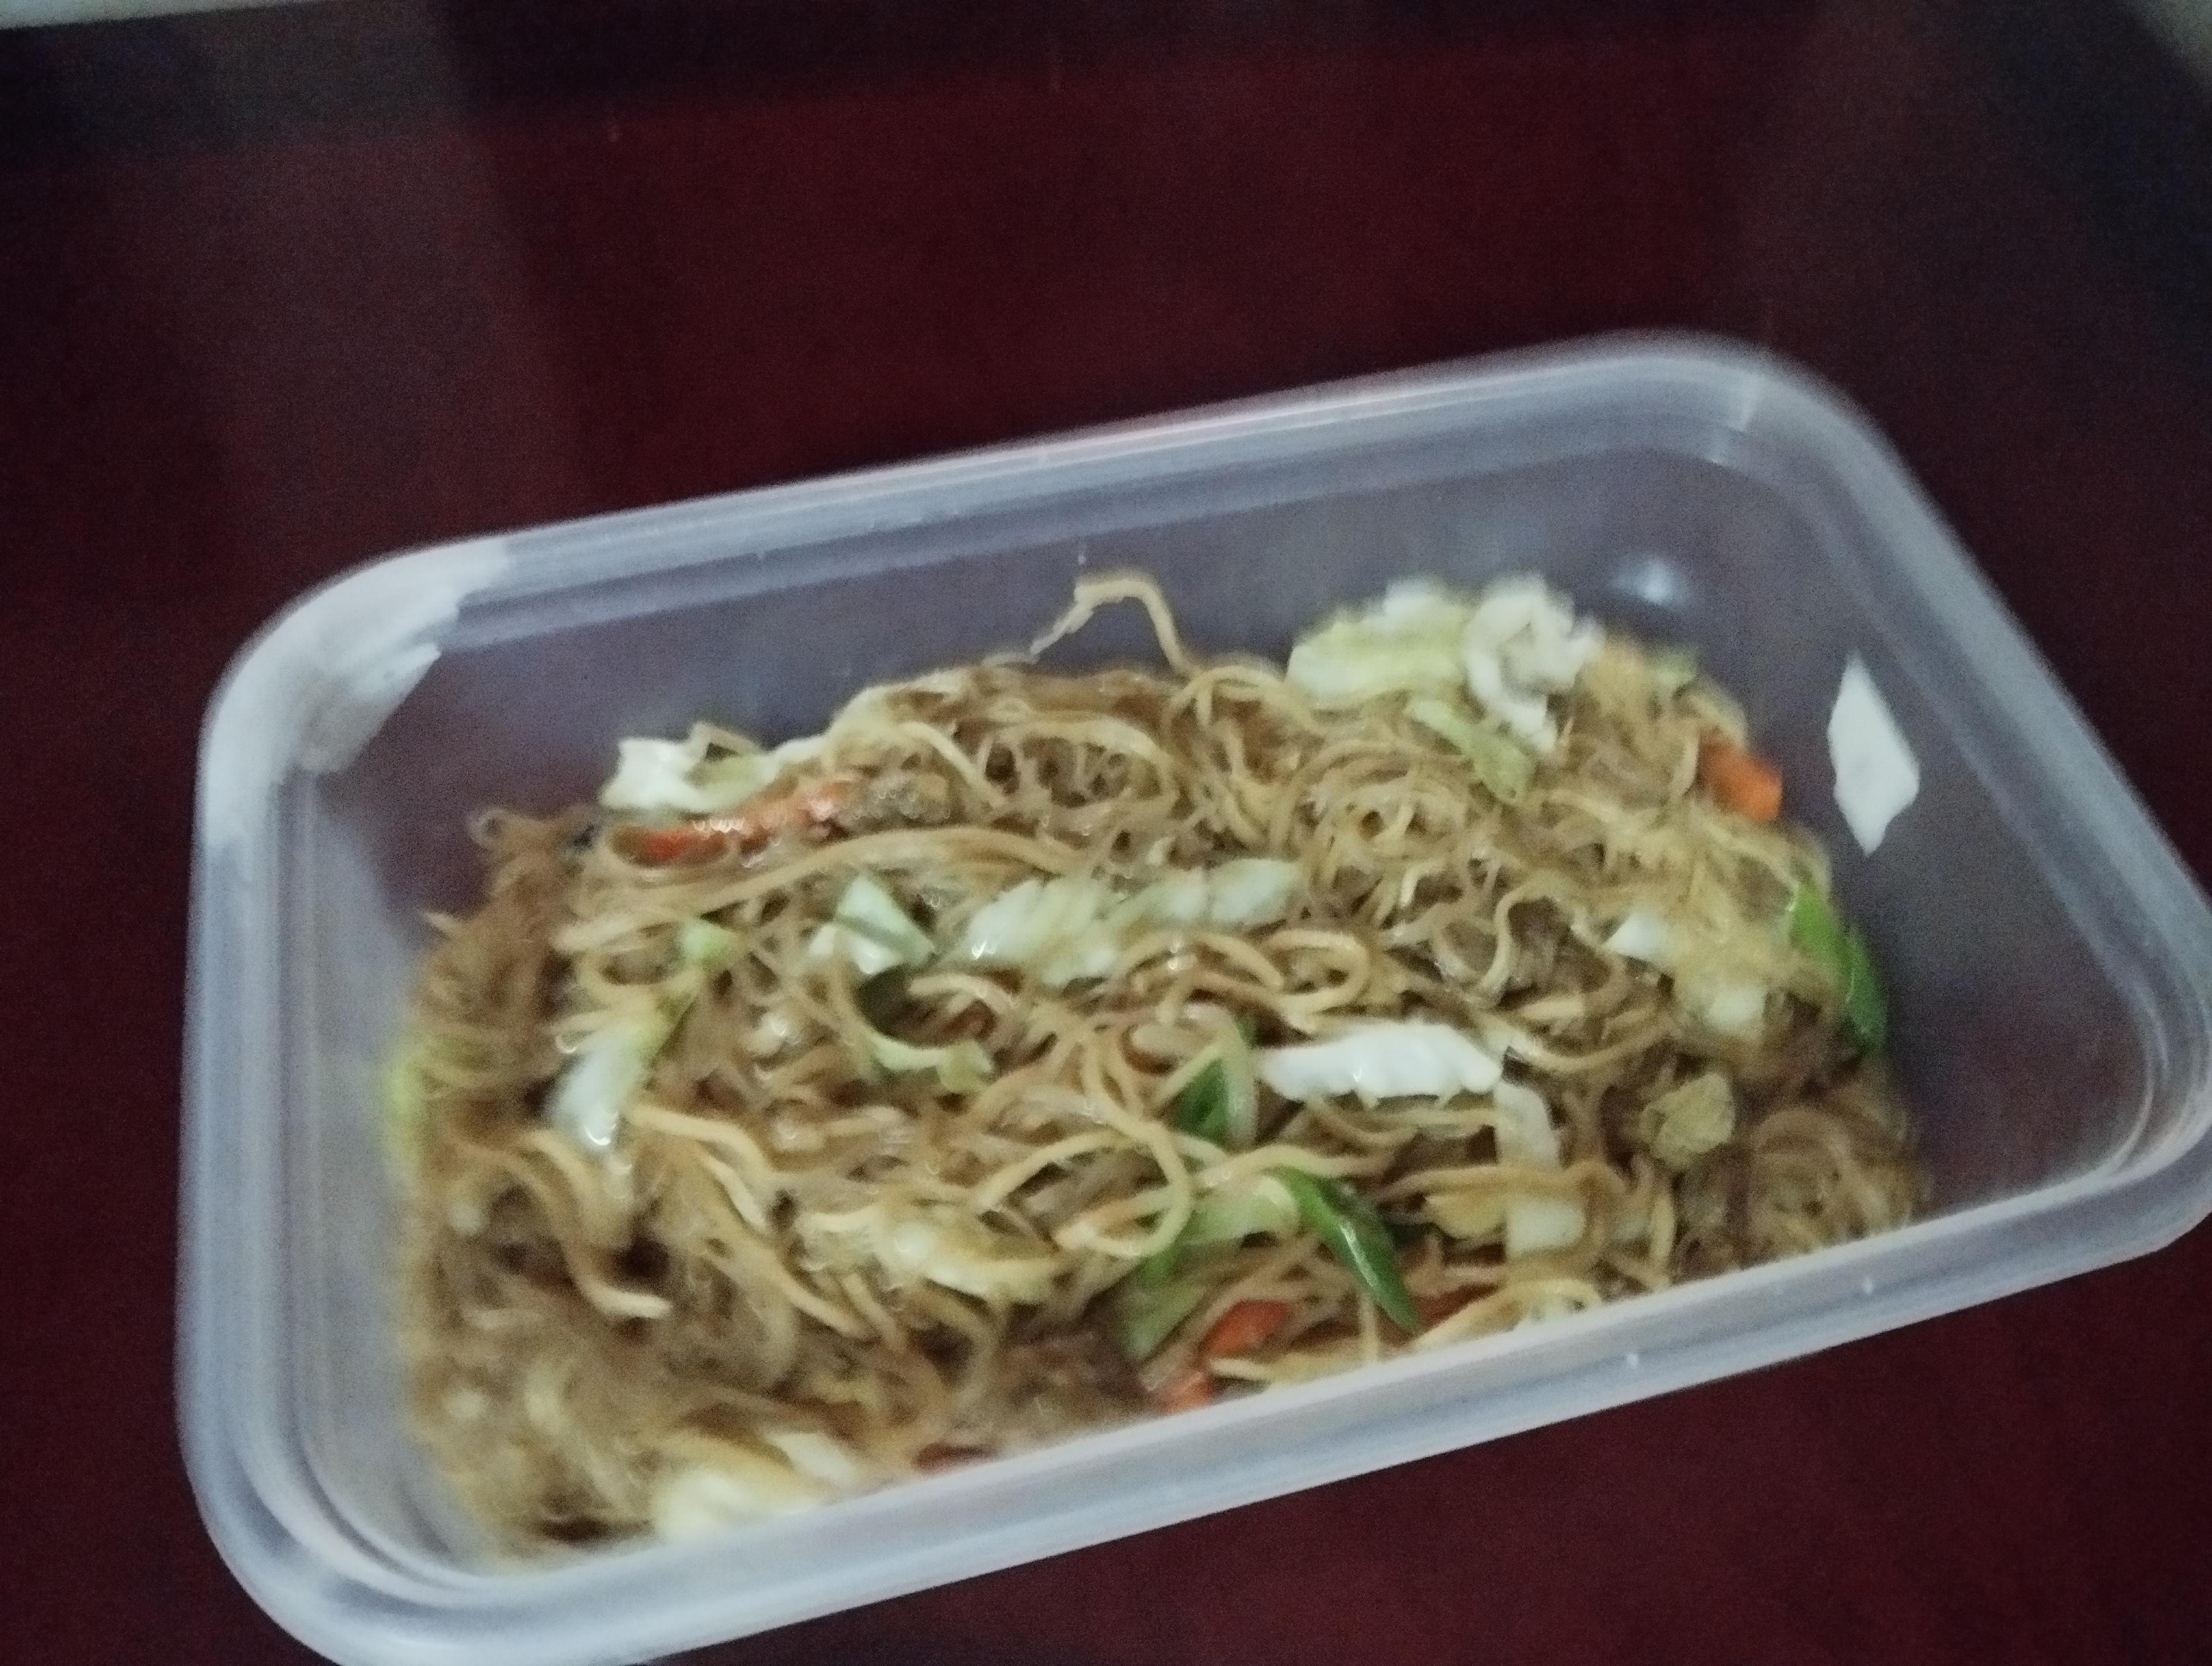pancit bihon: (421, 585, 1962, 1582)
